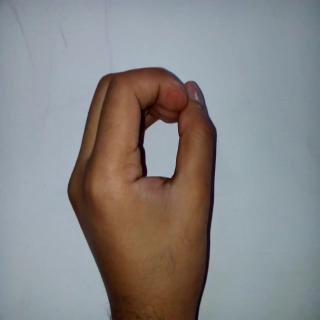O: (52, 61, 228, 272)
